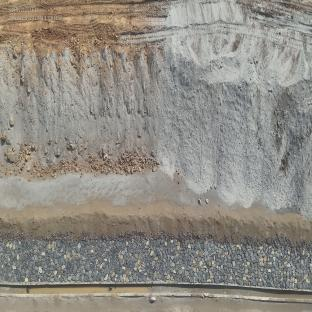rock_toe: (0, 238, 310, 290)
toe_drain: (0, 282, 312, 305)
